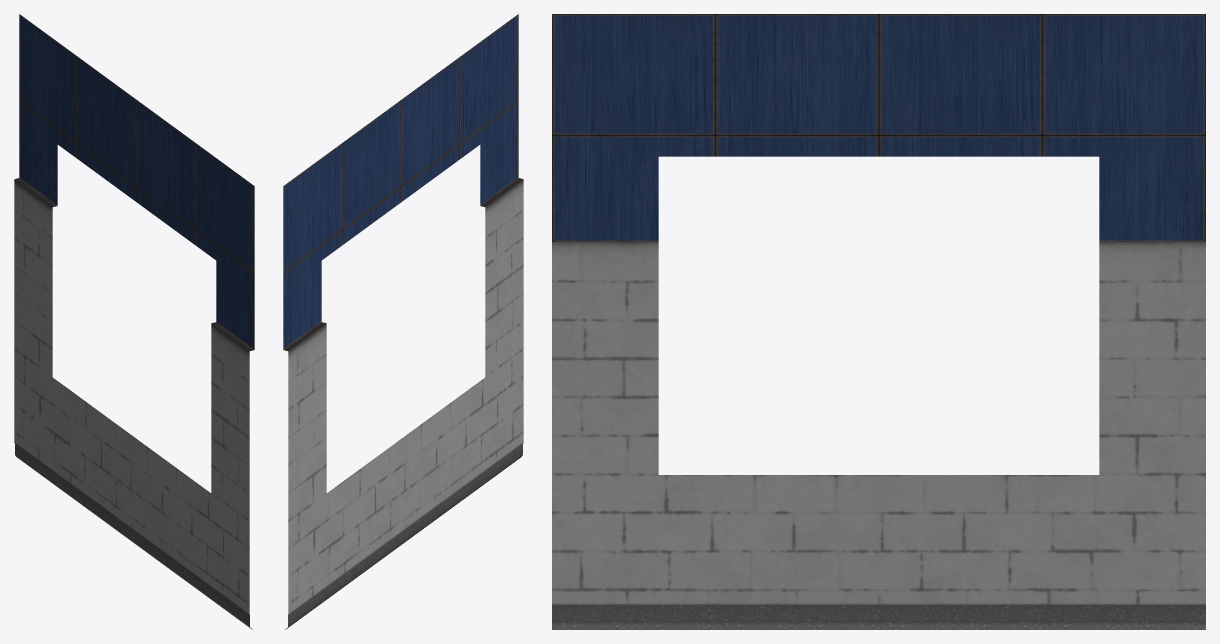
File: Cafateria 4M Window B.fbx
3 views of the same model, side by side, from view 1: azimuth 30°, elevation 25°; view 2: azimuth 150°, elevation 25°; view 3: azimuth 270°, elevation 25° (orthographic). The views are drawn at different scales.
Parts seen in each view (by area): view 1: Cafateria_4M_Window_B; view 2: Cafateria_4M_Window_B; view 3: Cafateria_4M_Window_B.
Part boxes in pixels (bbox=[...]): Cafateria_4M_Window_B: bbox=[14, 14, 254, 629]; Cafateria_4M_Window_B: bbox=[283, 14, 523, 629]; Cafateria_4M_Window_B: bbox=[552, 14, 1205, 629].
Bounding box in the file's own units: 5 × 416 × 400.
